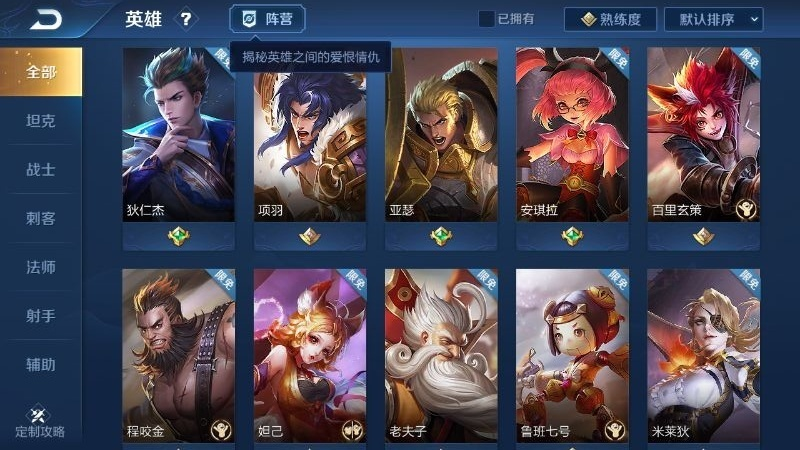return: (12, 5, 82, 36)
tag: (12, 348, 69, 385), (10, 196, 64, 230), (14, 149, 65, 185), (10, 105, 67, 136), (12, 250, 64, 283), (20, 300, 66, 329)
